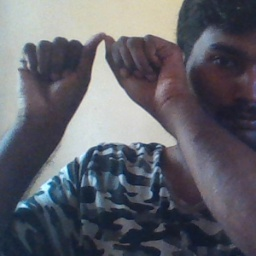A: (15, 31, 190, 121)
